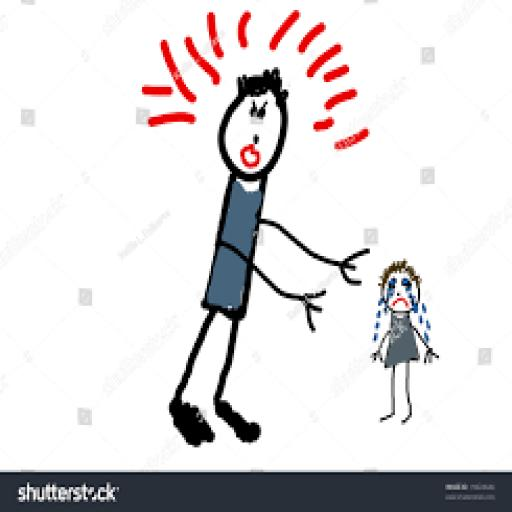person: (166, 64, 368, 452), (366, 247, 446, 438)
